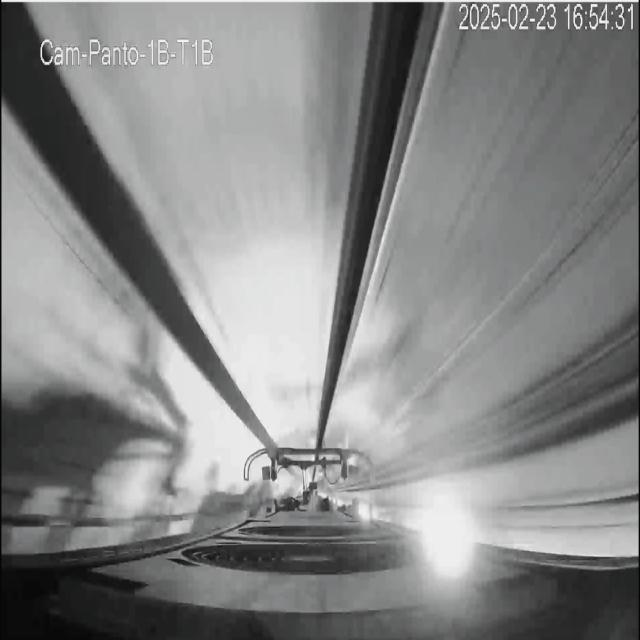Camera Stamp: (37, 29, 219, 71)
Date Stamp: (457, 3, 634, 33)
No - Spark: (416, 486, 483, 586)
Sparks: (322, 431, 376, 493), (294, 452, 348, 482), (243, 447, 277, 481)
